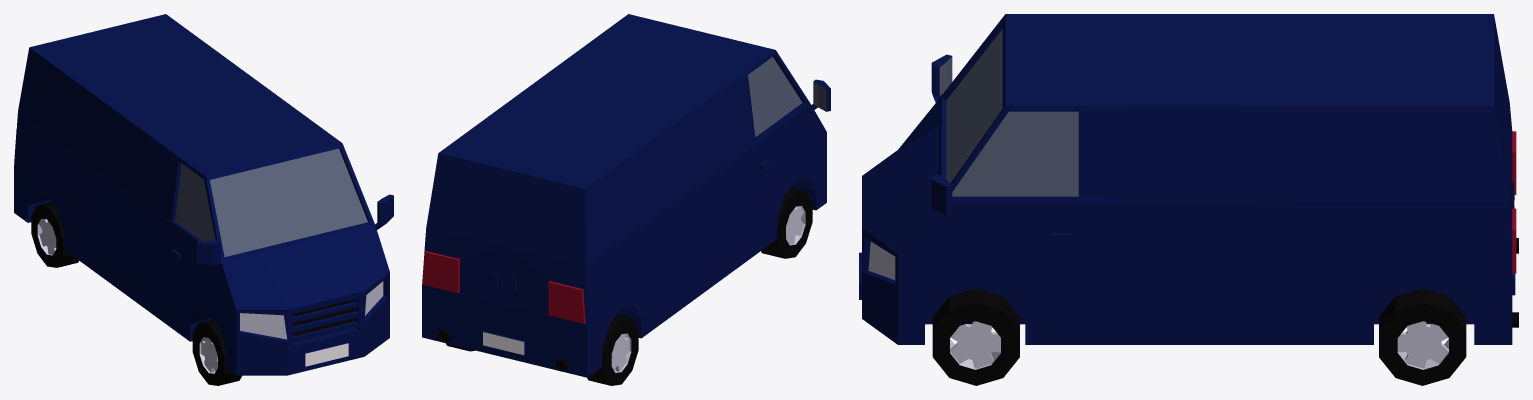
File: Van.glb
The picture shows the model from 3 angles, left to right: view 1: azimuth 30°, elevation 25°; view 2: azimuth 150°, elevation 25°; view 3: azimuth 270°, elevation 25°; orthographic projection. The views are drawn at different scales.
Visible parts, largest first — view 1: Van, Van wheel front right, Van wheel rear right; view 2: Van, Van wheel rear right, Van wheel front right; view 3: Van, Van wheel front left, Van wheel rear left.
Boxes of the visible parts, bbox=[...] form: Van: bbox=[14, 14, 393, 375]; Van wheel front right: bbox=[192, 319, 241, 385]; Van wheel rear right: bbox=[31, 201, 78, 267]; Van: bbox=[422, 14, 830, 377]; Van wheel rear right: bbox=[587, 314, 638, 385]; Van wheel front right: bbox=[761, 187, 812, 258]; Van: bbox=[859, 14, 1518, 344]; Van wheel front left: bbox=[932, 288, 1019, 385]; Van wheel rear left: bbox=[1379, 288, 1466, 385].
Size of the model in its own units: 281 by 271 by 591.
